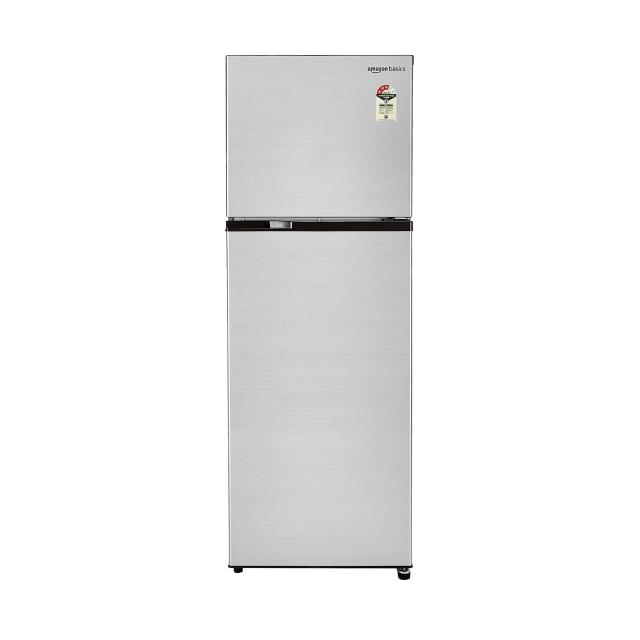refrigerator: (223, 53, 414, 571)
